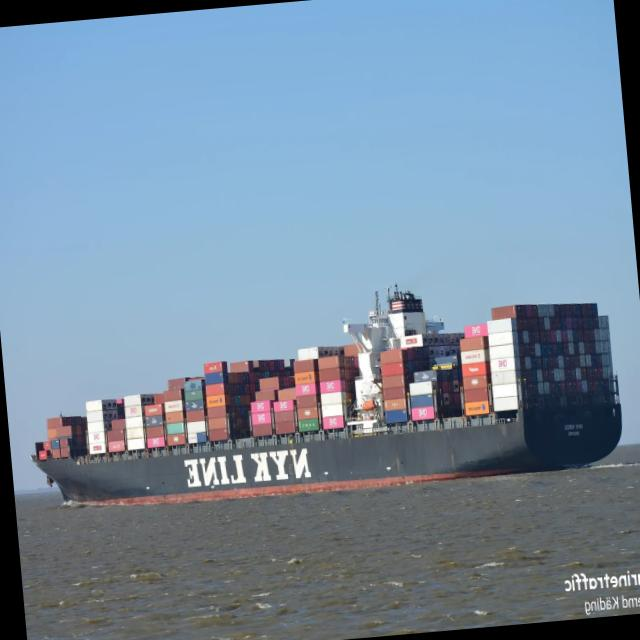Cargo: (32, 285, 621, 502)
